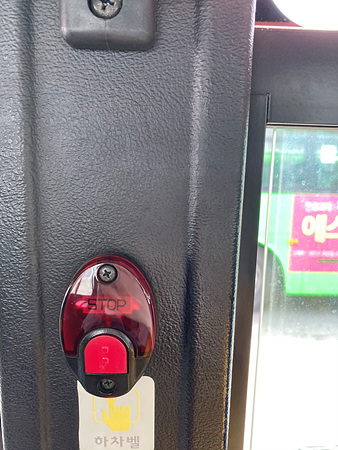bell: (60, 254, 156, 397)
